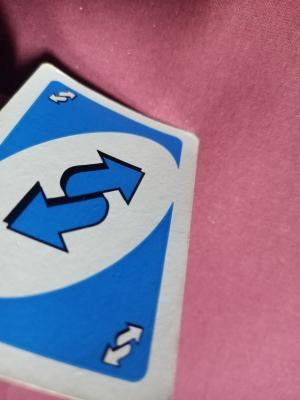blue: (7, 113, 154, 365)
reverse: (94, 321, 147, 371), (45, 87, 80, 106)
